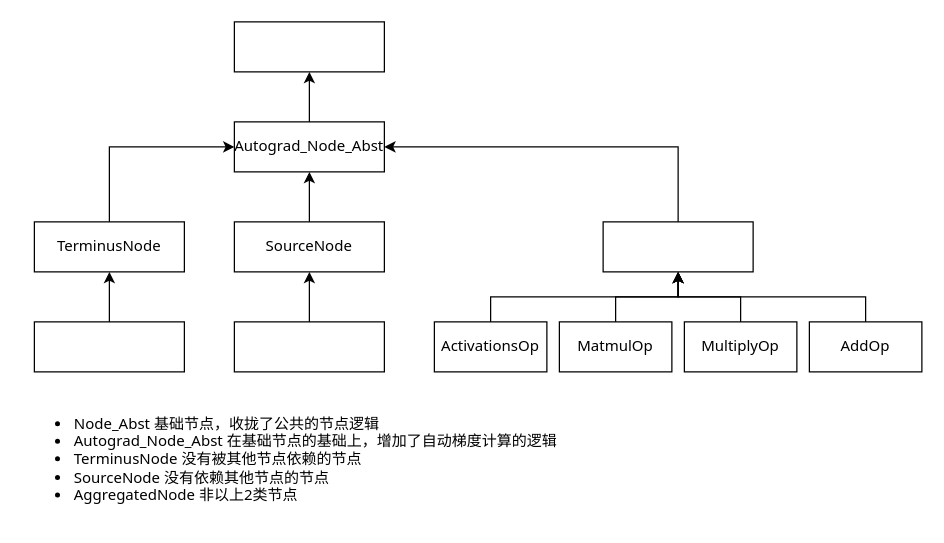
Some shapes in this 944 by 543 pixel diagram are drawn without their labels. Here are the shapes that lost their labels. From the top down, the centre of each, then its label:
At pixel 308 46: "Node_Abst".
At pixel 677 246: "AggregateNode".
At pixel 108 346: "LossOp".
At pixel 308 346: "TrainableNode".
